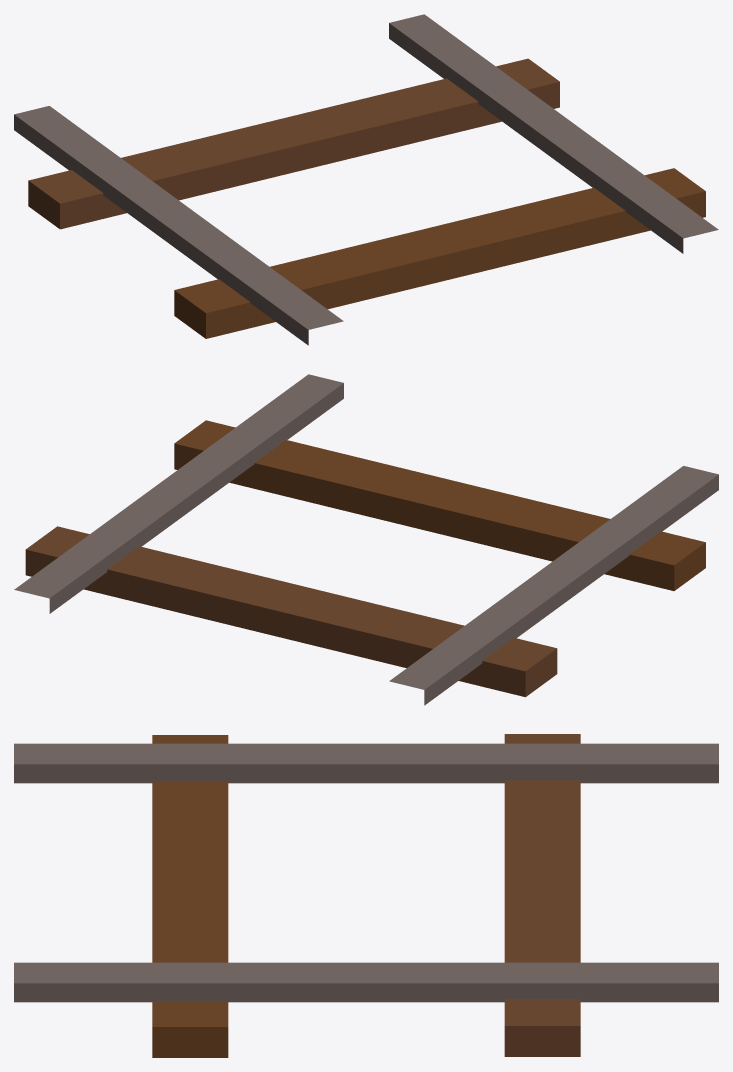
Rendered from Rail.glb.
The picture shows the model from 3 angles, top to bottom: view 1: azimuth 30°, elevation 25°; view 2: azimuth 150°, elevation 25°; view 3: azimuth 270°, elevation 25°; orthographic projection. The views are drawn at different scales.
Parts seen in each view (by area): view 1: Rail2; view 2: Rail2; view 3: Rail2.
Boxes of the visible parts, x1=… form: Rail2: x1=14, y1=14, x2=718, y2=345; Rail2: x1=14, y1=374, x2=718, y2=705; Rail2: x1=14, y1=734, x2=718, y2=1057.
Bounding box in the file's own units: 0.8515 × 0.0656 × 0.8665.
Materials: 2 (2 with a texture image).
